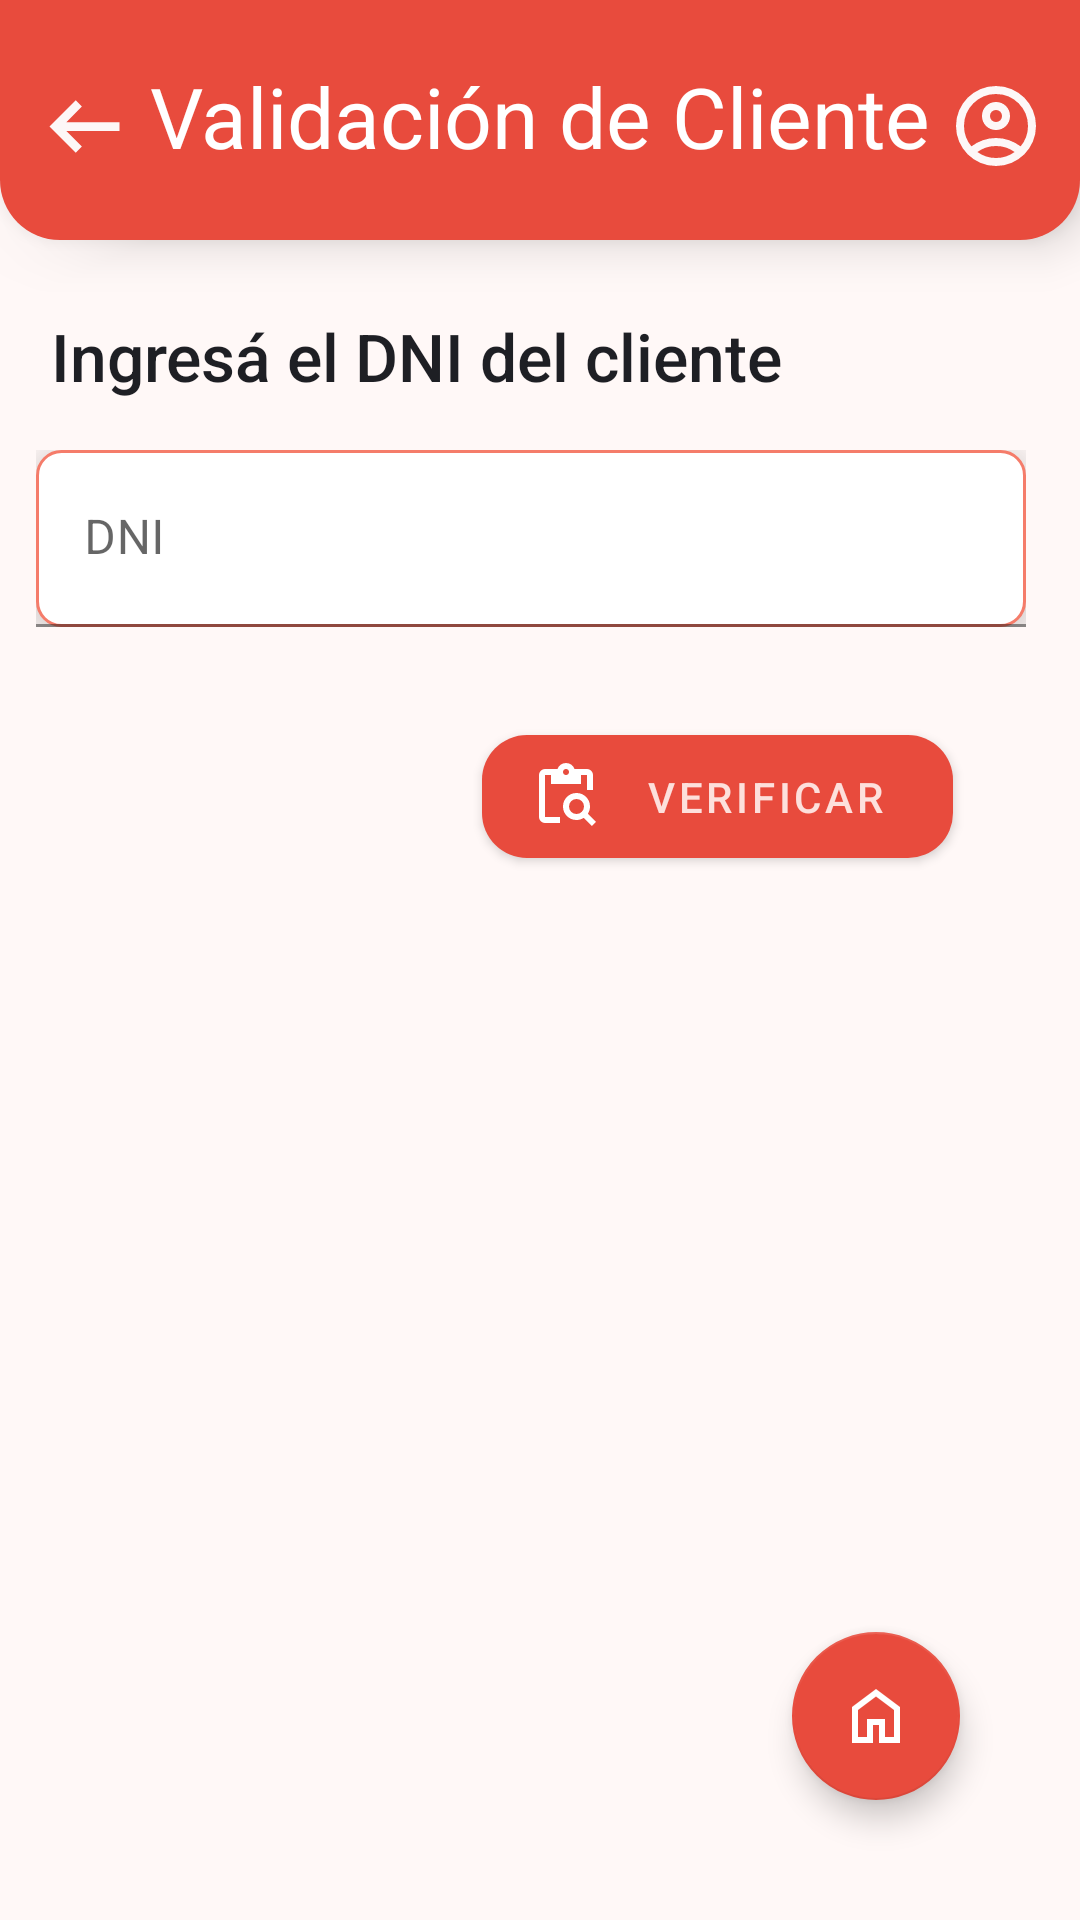

Screen size 1080w x 1920h. Icon name, then its center in pixels as point (x, y):
home: point (876, 1716)
